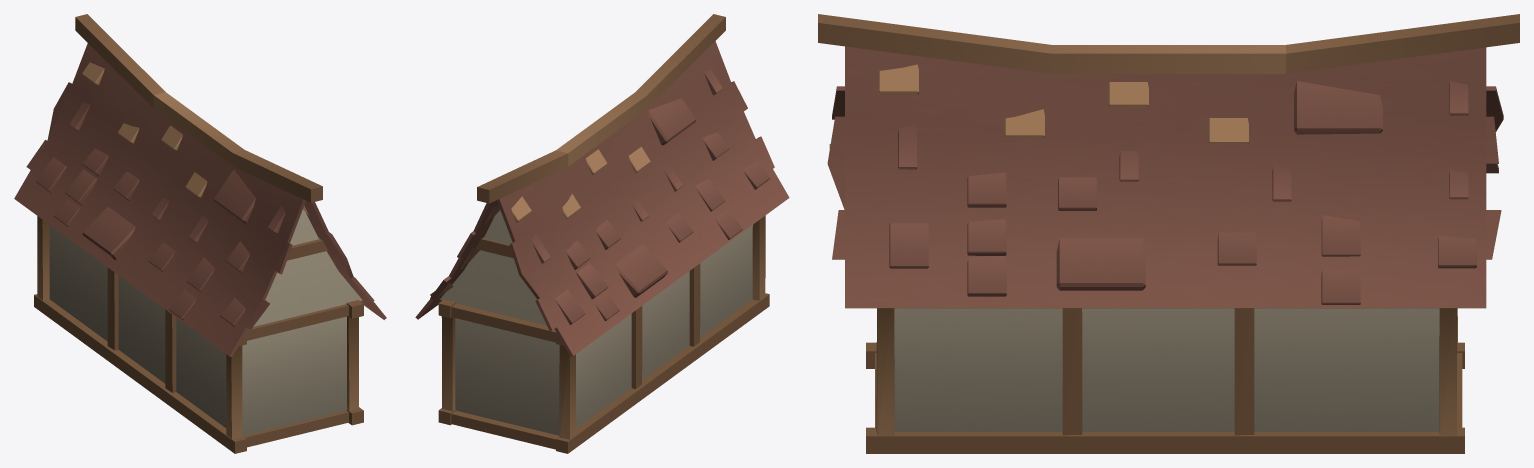
File: ZLP_Build_B_13.FBX
3 views of the same model, side by side, from view 1: azimuth 30°, elevation 25°; view 2: azimuth 150°, elevation 25°; view 3: azimuth 270°, elevation 25° (orthographic). The views are drawn at different scales.
Parts seen in each view (by area): view 1: ZLP_Build_B_13; view 2: ZLP_Build_B_13; view 3: ZLP_Build_B_13.
Boxes of the visible parts, x1=… form: ZLP_Build_B_13: x1=14, y1=14, x2=386, y2=453; ZLP_Build_B_13: x1=415, y1=14, x2=789, y2=453; ZLP_Build_B_13: x1=818, y1=14, x2=1519, y2=453.
Size of the model in its own units: 210 by 331 by 540.
